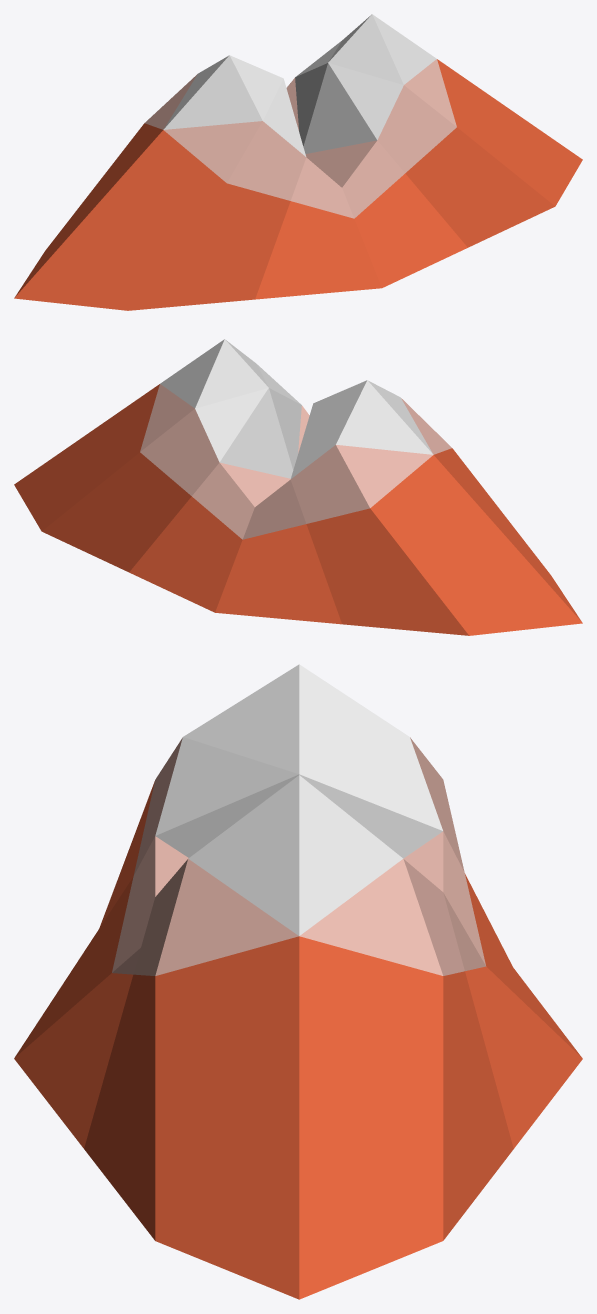
The model's file is Mountain.glb.
3 views of the same model, one above another, from view 1: azimuth 30°, elevation 25°; view 2: azimuth 150°, elevation 25°; view 3: azimuth 270°, elevation 25° (orthographic). The views are drawn at different scales.
Visible parts, largest first — view 1: Cube; view 2: Cube; view 3: Cube.
Boxes of the visible parts, left/top/right/bottom form: Cube: left=14, top=14, right=582, bottom=310; Cube: left=14, top=339, right=582, bottom=635; Cube: left=14, top=664, right=582, bottom=1299.
Bounding box in the file's own units: 7.98 × 2.64 × 3.95.
